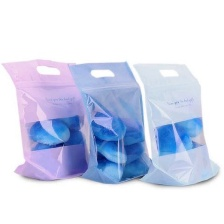snack: (127, 57, 223, 190), (63, 57, 157, 187), (0, 54, 93, 184)
